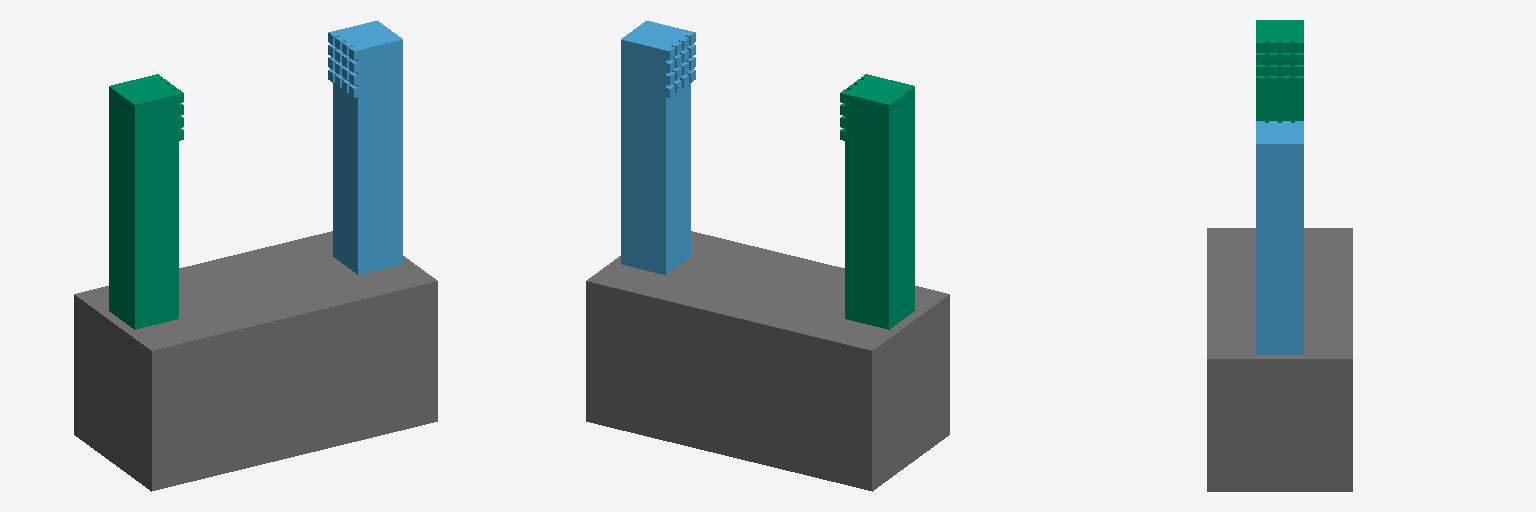
robot.urdf — gripper:
<?xml version="1.0" ?>
<robot name="gripper">
  <link name="baseLink">
    <inertial>
      <origin rpy="0 0 0" xyz="0 0 0"/>
       <mass value="0.001"/>
       <inertia ixx="0.01" ixy="0" ixz="0" iyy="0.01" iyz="0" izz="0.01"/>
    </inertial>
    <visual>
      <origin rpy="0 0 0" xyz="0 0.0 0.0"/>
      <geometry>
			<mesh filename="tool_mesh/base_m.stl"/>
      </geometry>
       <material name="grey">
        <color rgba="0.5 0.5 0.5 1.0"/>
      </material>
    </visual>
  </link>
  <link name="leftfinger">
      <contact>
      <friction_anchor/>
      <stiffness value="30000.0"/>
      <damping value="1000.0"/>
      <spinning_friction value="0.1"/>
      <lateral_friction value="1.0"/>
      <contact_cfm value="0.2"/>
    </contact>
  	<inertial>
      <origin rpy="0 0 0" xyz="0 0 0"/>
       <mass value="0.1"/>
       <inertia ixx="0.1" ixy="0" ixz="0" iyy="0.1" iyz="0" izz="0.1"/>
    </inertial>
    <visual>
      <origin rpy="0 0 0" xyz="0 0.0 0.0"/>
      <geometry>
			<mesh filename="tool_mesh/finger01_m.stl"/>
      </geometry>
    </visual>
    <collision>
      <origin rpy="0 0 0" xyz="0 0.0 0.0"/>
      <geometry>
			<mesh filename="tool_mesh/finger01_m.stl"/>
      </geometry>
      <material name="white"/>
    </collision>
  </link>
  <link name="rightfinger">
      <contact>
      <friction_anchor/>
      <stiffness value="30000.0"/>
      <damping value="1000.0"/>
      <spinning_friction value="0.1"/>
      <lateral_friction value="1.0"/>
      <contact_cfm value="0.2"/>
    </contact>
  	<inertial>
      <origin rpy="0 0 0" xyz="0 0 0"/>
       <mass value="0.1"/>
       <inertia ixx="0.1" ixy="0" ixz="0" iyy="0.1" iyz="0" izz="0.1"/>
    </inertial>
    <visual>
      <origin rpy="0 0 0" xyz="0 0.0 0.0"/>
      <geometry>
			<mesh filename="tool_mesh/finger02_m.stl"/>
      </geometry>
    </visual>
    <collision>
      <origin rpy="0 0 0" xyz="0 0.0 0.0"/>
      <geometry>
			<mesh filename="tool_mesh/finger02_m.stl"/>
      </geometry>
      <material name="white"/>
    </collision>
  </link>
  <joint name="finger_joint1" type="prismatic">
    <parent link="baseLink"/>
    <child link="leftfinger"/>
    <origin rpy="0 0 0" xyz="0.0 0 0.0"/>
    <axis xyz="-1 0 0"/>
    <limit effort="20" lower="0.0" upper="0.11" velocity="0.2"/>
  </joint>
  <joint name="finger_joint2" type="prismatic">
    <parent link="baseLink"/>
    <child link="rightfinger"/>
    <origin rpy="0 0 0" xyz="0.0 0 0.0"/>
    <axis xyz="1 0 0"/>
    <limit effort="20" lower="-0" upper="0.11" velocity="0.2"/>
    <mimic joint="finger_joint1"/>
  </joint>

  <joint name="gripping_trafo" type="fixed">
		<parent link="baseLink"/>
		<child link="tcp"/>
		<origin xyz="0 0.0 0.39" rpy="0 0 0"/>
  </joint>

  <link name="tcp">

  </link>

</robot>

--- Facts derived from the render (not from the file) ---
The picture shows the robot from 3 angles, left to right: view 1: azimuth 30°, elevation 25°; view 2: azimuth 150°, elevation 25°; view 3: azimuth 270°, elevation 25°; orthographic projection.
Model gripper with 4 links and 3 joints (2 prismatic, 1 fixed), rooted at baseLink, posed every joint at zero.
Visible links, largest first — view 1: baseLink, rightfinger, leftfinger; view 2: baseLink, rightfinger, leftfinger; view 3: baseLink, leftfinger, rightfinger.
Link boxes in pixels (x1,y1,x2,y2): baseLink: (74, 231, 437, 491); rightfinger: (109, 74, 183, 329); leftfinger: (328, 21, 402, 274); baseLink: (586, 231, 949, 491); rightfinger: (840, 74, 914, 329); leftfinger: (621, 21, 695, 274); baseLink: (1207, 228, 1352, 491); leftfinger: (1256, 121, 1303, 354); rightfinger: (1256, 20, 1303, 122).
Bounding box of the posed robot: 0.32 × 0.15 × 0.39 m (x, y, z).
Meshes: 3 distinct files referenced, 3 mesh visuals loaded (3 binary STL).